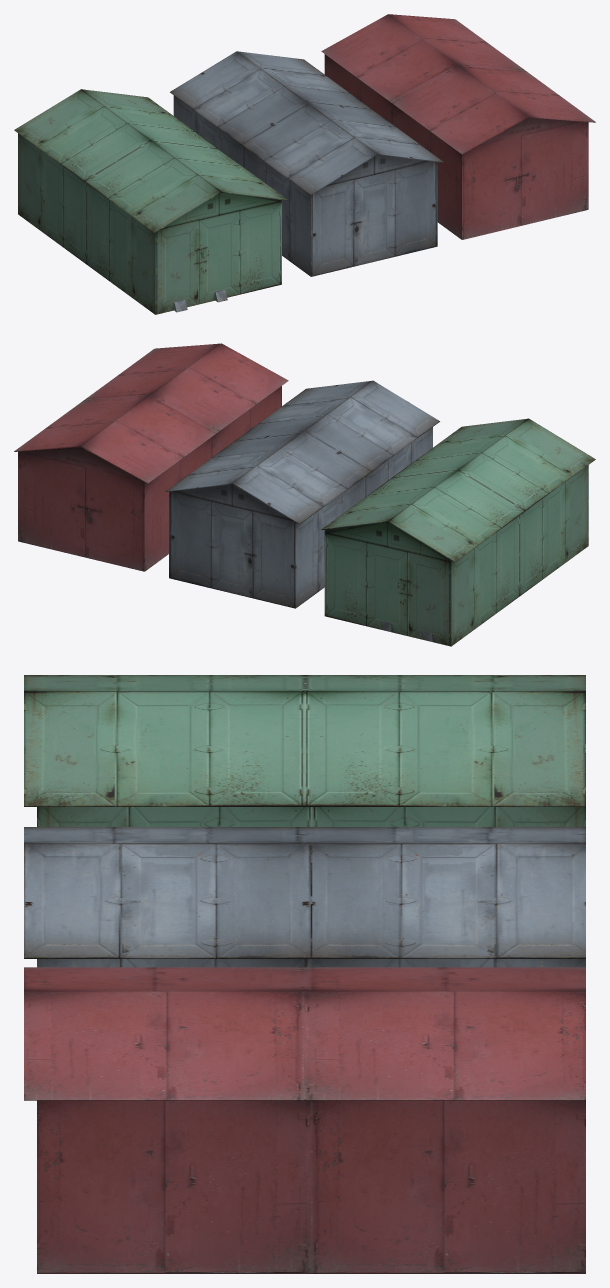
The model's file is garages.FBX.
3 renders of one model, top to bottom at view 1: azimuth 30°, elevation 25°; view 2: azimuth 150°, elevation 25°; view 3: azimuth 270°, elevation 25°, orthographic. The views are drawn at different scales.
Visible parts, largest first — view 1: Line008; view 2: Line008; view 3: Line008.
Boxes of the visible parts, bbox=[...] form: Line008: bbox=[14, 14, 595, 314]; Line008: bbox=[14, 343, 595, 646]; Line008: bbox=[24, 675, 585, 1273].
Size of the model in its own units: 159 by 38 by 87.52.
